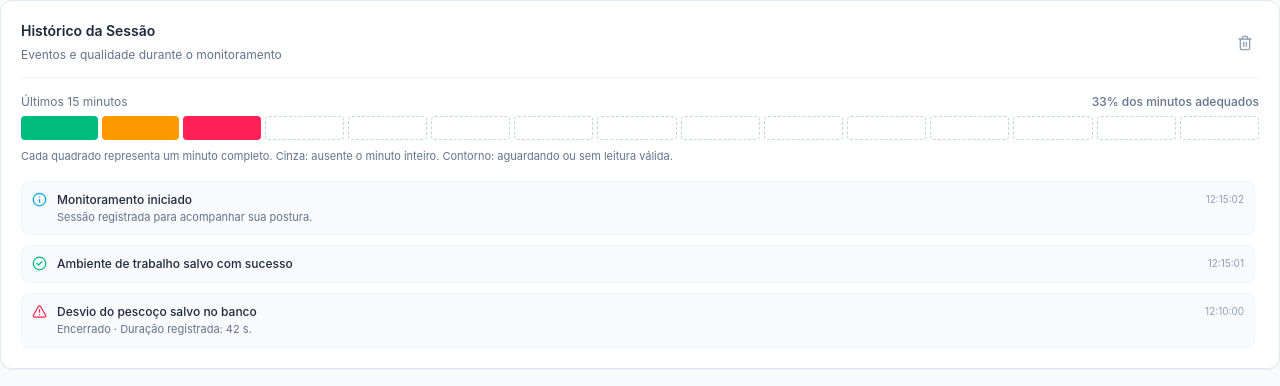
Test case: database-backed session history › keeps the calibration success visible between the closed session and the resumed session
What coordinates should you click on to do the following:
click the button named "Limpar lista de eventos"
I would click on:
 (1245, 43)
Its box is x1=1231 y1=29 x2=1259 y2=57.
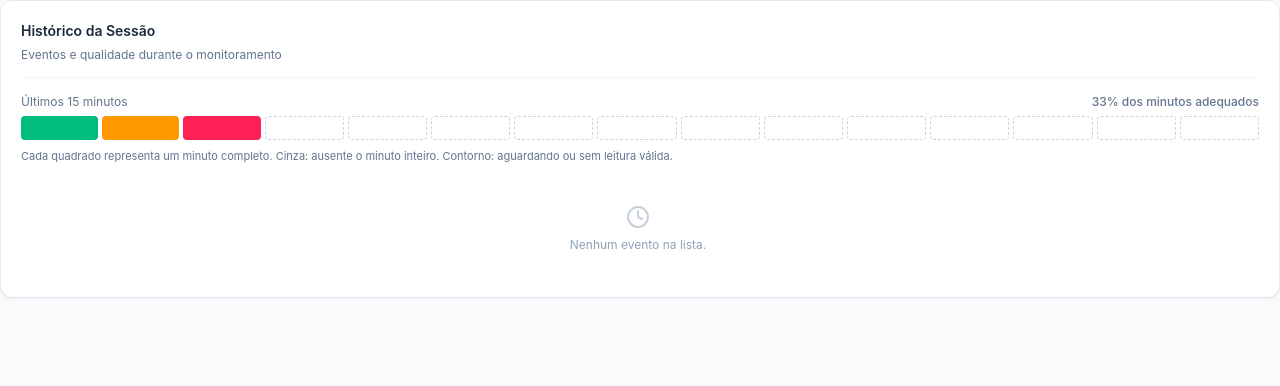
Check: the text "Ambiente de trabalho salvo com sucesso" is gone
